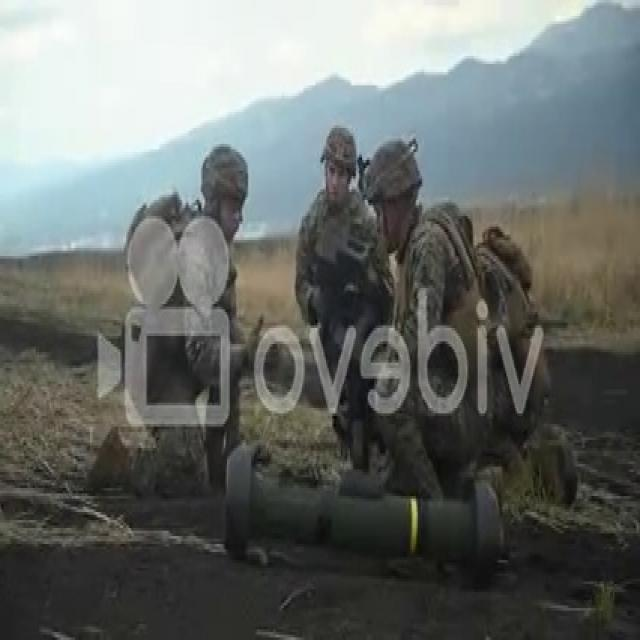rocket: (218, 442, 500, 586)
